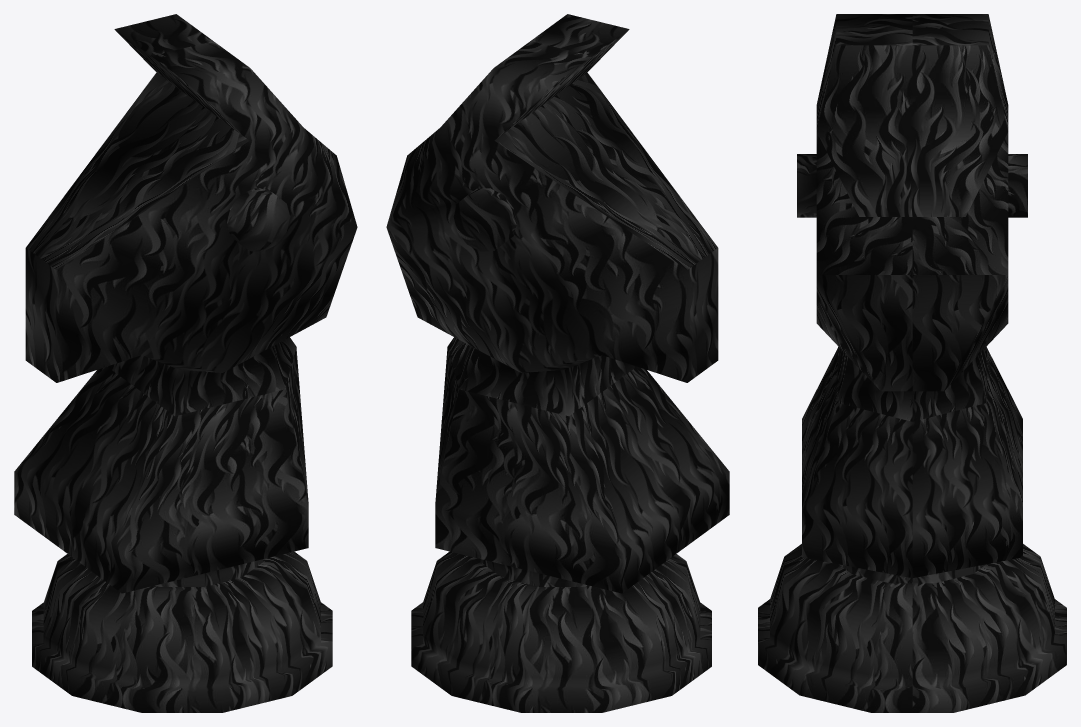
The model's file is Knight.glb.
3 renders of one model, left to right at view 1: azimuth 30°, elevation 25°; view 2: azimuth 150°, elevation 25°; view 3: azimuth 270°, elevation 25°, orthographic. The views are drawn at different scales.
Visible parts, largest first — view 1: Knight; view 2: Knight; view 3: Knight.
Part boxes in pixels (bbox=[...]): Knight: bbox=[14, 14, 357, 712]; Knight: bbox=[386, 14, 729, 712]; Knight: bbox=[758, 14, 1066, 712].
Bounding box in the file's own units: 0.1308 × 0.2767 × 0.1253.
Materials: 1 (1 with a texture image).
